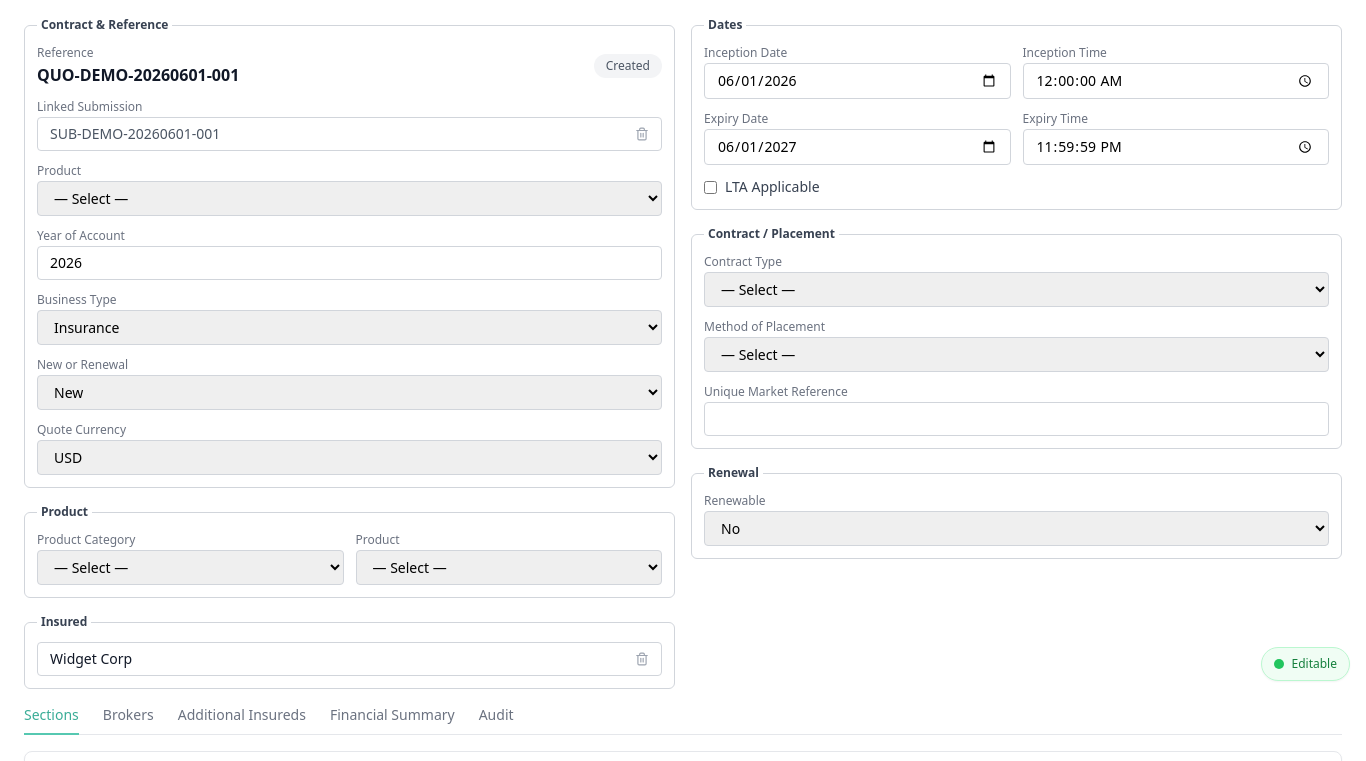
Test: QuoteViewPage › T-quotes-view-R30 — Additional Insureds tab renders table with Name column header
expect the text "QUO-DEMO-20260601-001" is shown: met, box [37,63,239,87]
Click the button with test id "tab-additional-insureds" at point(242, 720), box [178,705,306,735]
(page scrolled)
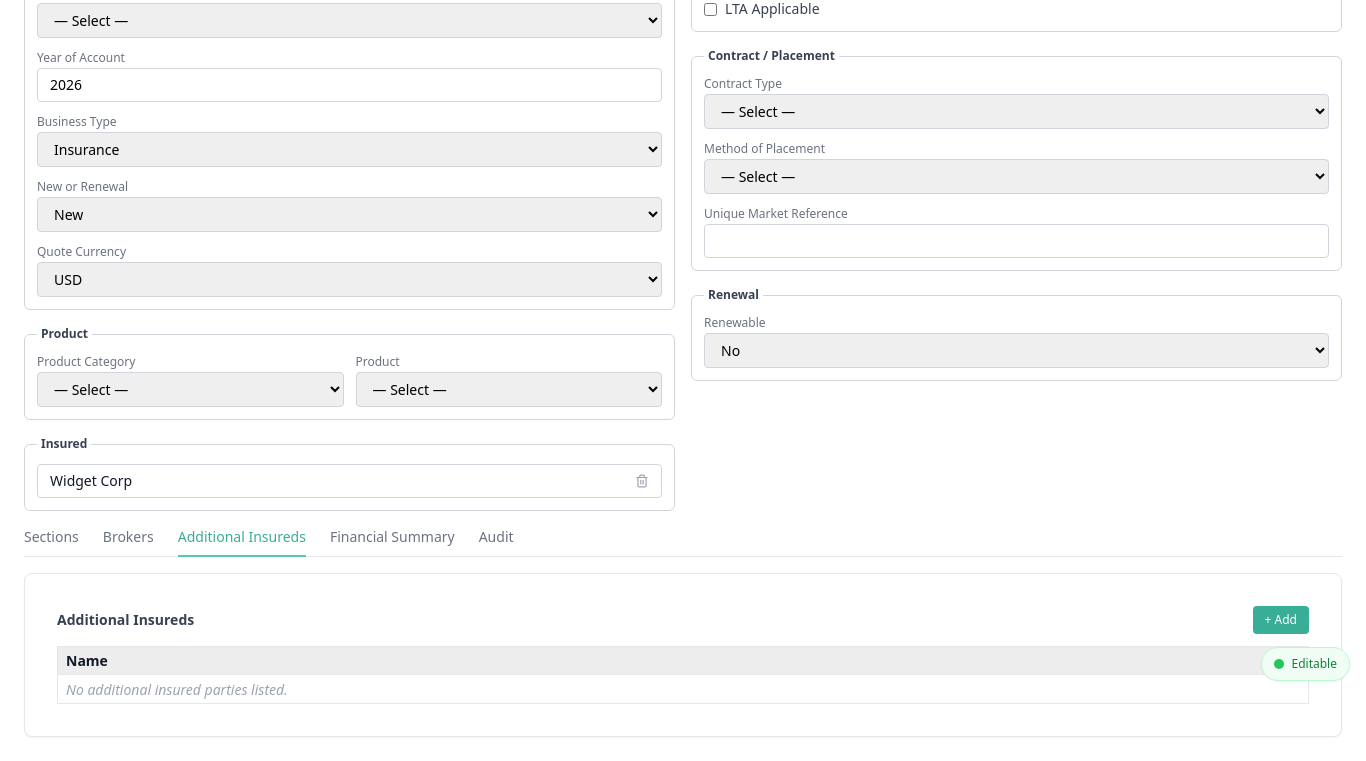
expect the column heading "Name" is shown: met, box [58,646,1058,675]
